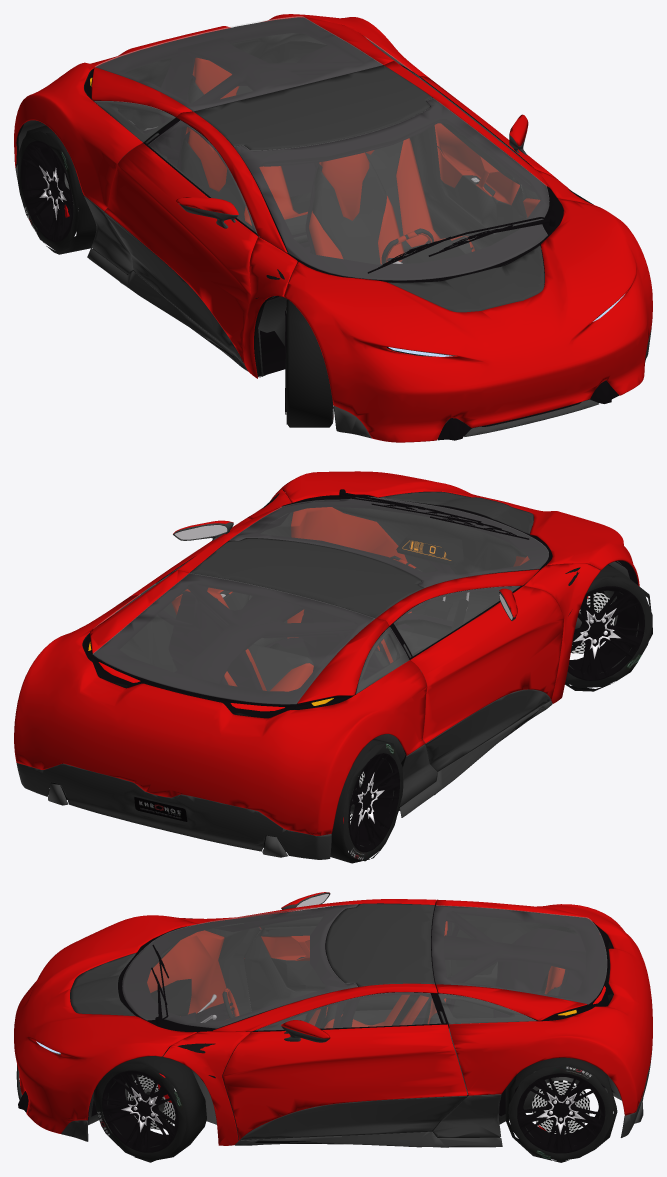
The model's file is CarConcept-medium-lossy.glb.
The picture shows the model from 3 angles, top to bottom: view 1: azimuth 30°, elevation 25°; view 2: azimuth 150°, elevation 25°; view 3: azimuth 270°, elevation 25°; orthographic projection. The views are drawn at different scales.
Visible parts, largest first — view 1: BodyHood, BodyWindshield, BodyRearwindow, BodyDoorRColor1, BodyRearPanelsColor1, BodyRoofPanel, BodyWindshieldGasket, InteriorSeatsColor1, InteriorSeatsColor2, BodyPillars, object 84, InteriorPillar (+20 smaller); view 2: BodyRearPanelsColor1, BodyRearwindow, BodyWindshield, BodyDoorRColor1, BodyPanelsColor2, BodyRoofPanel, BodyHood, InteriorRearHatch, BodyPillars, InteriorPillar, InteriorDashMid, BodyWindshieldGasket (+22 smaller); view 3: BodyRearPanelsColor1, BodyWindshield, BodyDoorLColor1, BodyHood, BodyRearwindow, object 84, BodyRoofPanel, BodyPillars, BodyWindshieldGasket, BodyDoorLColor2, BodyPanelsColor2, InteriorRearHatch (+24 smaller).
Part boxes in pixels (left/top/right/bottom): BodyHood: left=283, top=198, right=652, bottom=442; BodyWindshield: left=234, top=98, right=549, bottom=280; BodyRearwindow: left=95, top=16, right=382, bottom=110; BodyDoorRColor1: left=104, top=143, right=257, bottom=363; BodyRearPanelsColor1: left=14, top=14, right=428, bottom=210; BodyRoofPanel: left=193, top=65, right=432, bottom=150; BodyWindshieldGasket: left=234, top=99, right=563, bottom=282; InteriorSeatsColor1: left=185, top=57, right=474, bottom=264; InteriorSeatsColor2: left=180, top=77, right=471, bottom=264; BodyPillars: left=176, top=61, right=598, bottom=378; object 84: left=17, top=125, right=333, bottom=427; InteriorPillar: left=158, top=37, right=434, bottom=168; BodyRearPanelsColor1: left=14, top=570, right=426, bottom=835; BodyRearwindow: left=93, top=573, right=374, bottom=704; BodyWindshield: left=230, top=497, right=548, bottom=587; BodyDoorRColor1: left=410, top=586, right=563, bottom=743; BodyPanelsColor2: left=16, top=700, right=552, bottom=859; BodyRoofPanel: left=190, top=538, right=423, bottom=618; BodyHood: left=279, top=471, right=639, bottom=586; InteriorRearHatch: left=93, top=574, right=387, bottom=708; BodyPillars: left=176, top=489, right=600, bottom=703; InteriorPillar: left=174, top=574, right=418, bottom=683; InteriorDashMid: left=332, top=503, right=527, bottom=623; BodyWindshieldGasket: left=231, top=496, right=552, bottom=588; BodyRearPanelsColor1: left=436, top=899, right=652, bottom=1115; BodyWindshield: left=122, top=904, right=357, bottom=1028; BodyDoorLColor1: left=222, top=1024, right=467, bottom=1140; BodyHood: left=14, top=915, right=196, bottom=1133; BodyRearwindow: left=432, top=905, right=606, bottom=1003; object 84: left=93, top=1054, right=617, bottom=1162; BodyRoofPanel: left=326, top=903, right=434, bottom=986; BodyPillars: left=163, top=899, right=437, bottom=1145; BodyWindshieldGasket: left=118, top=905, right=357, bottom=1032; BodyDoorLColor2: left=240, top=1096, right=467, bottom=1140; BodyPanelsColor2: left=16, top=1050, right=652, bottom=1147; InteriorRearHatch: left=432, top=905, right=606, bottom=1020.
Size of the model in its own units: 2.54 by 1.15 by 4.36.
23 materials, 6 textured.
